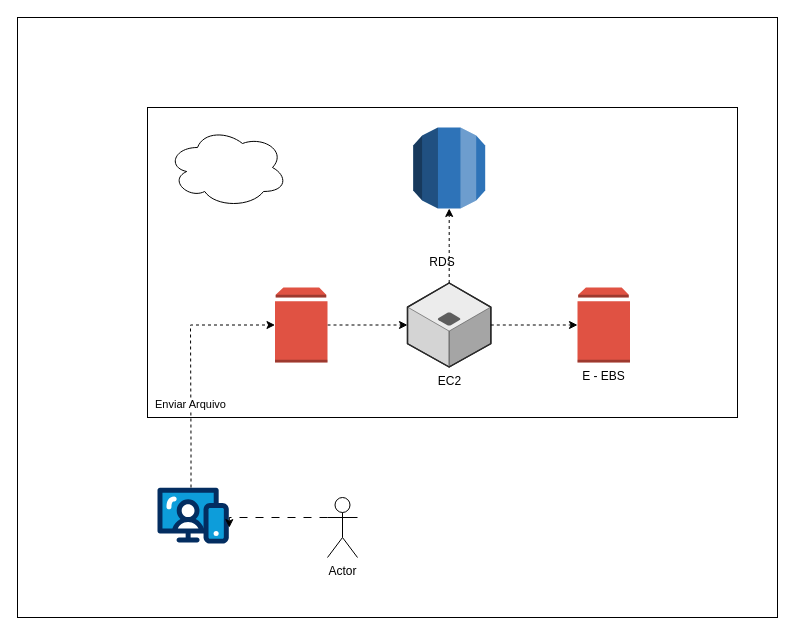
The diagram is 795 pixels wide and 635 high, and some of its shapes have lost their labels. Here are the shapes that lost their labels. From the top down, the centre of each, then its label:
point 227,167: AWS
point 301,324: D - EBS
